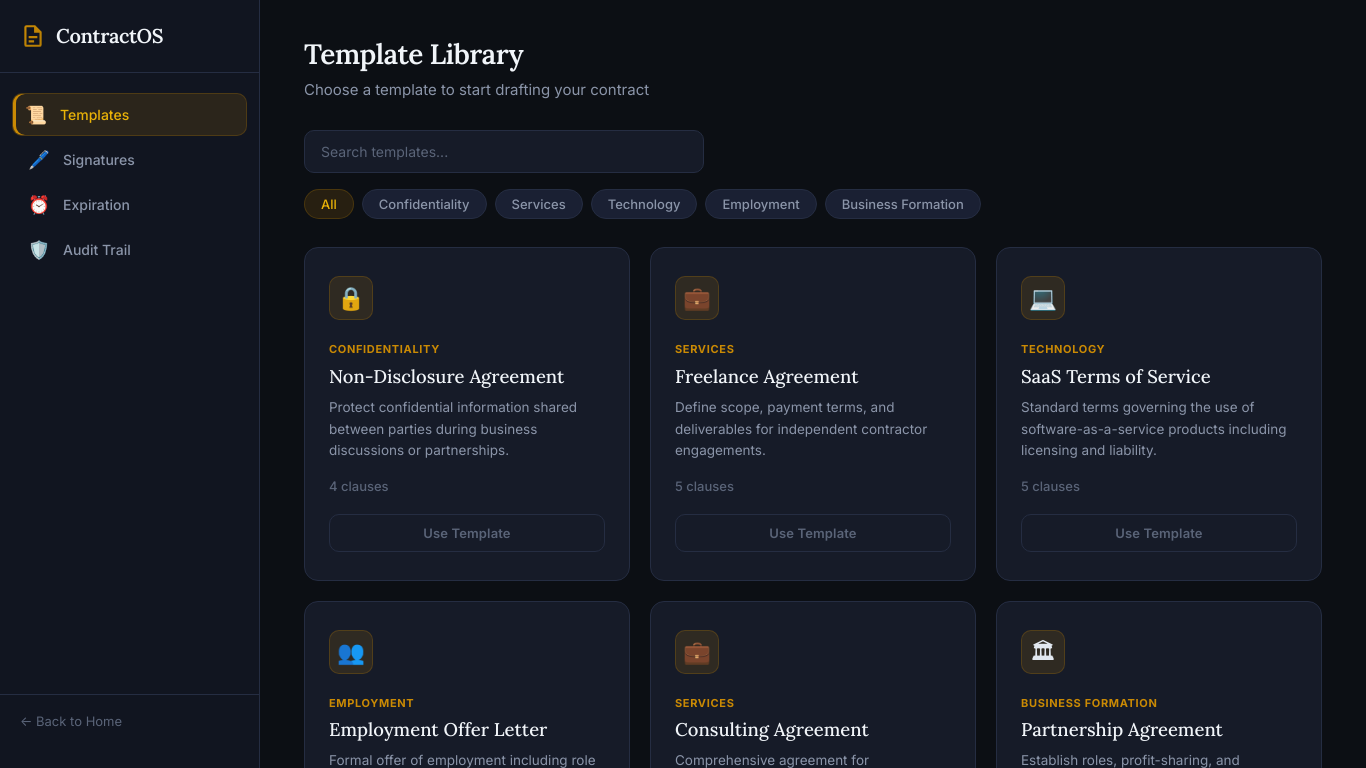
Test case: AppLayout › switches to Signatures view on nav click
Click the button "🖊️ Signatures".
click(130, 160)  # box [12,138,247,181]
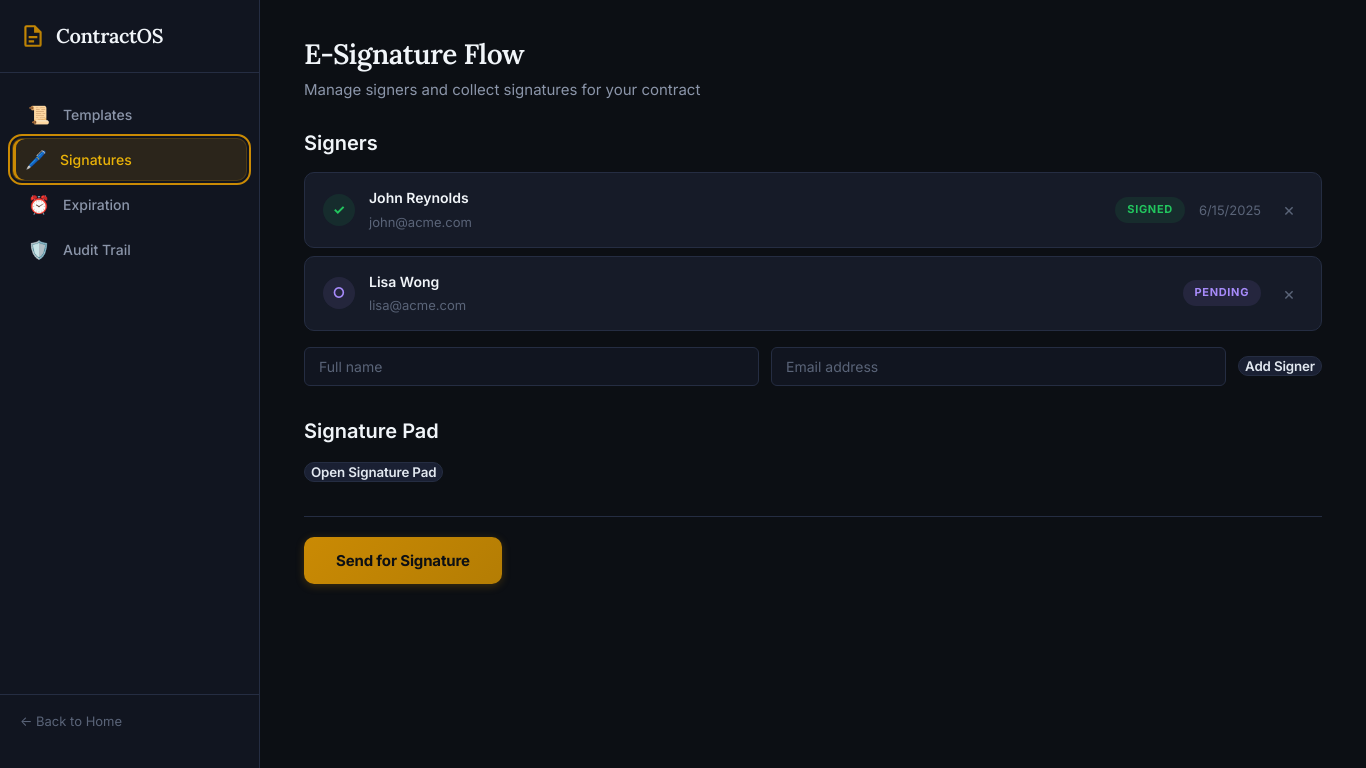
Now the element with test id "signer-list" is shown, box [304,172,1322,331]
